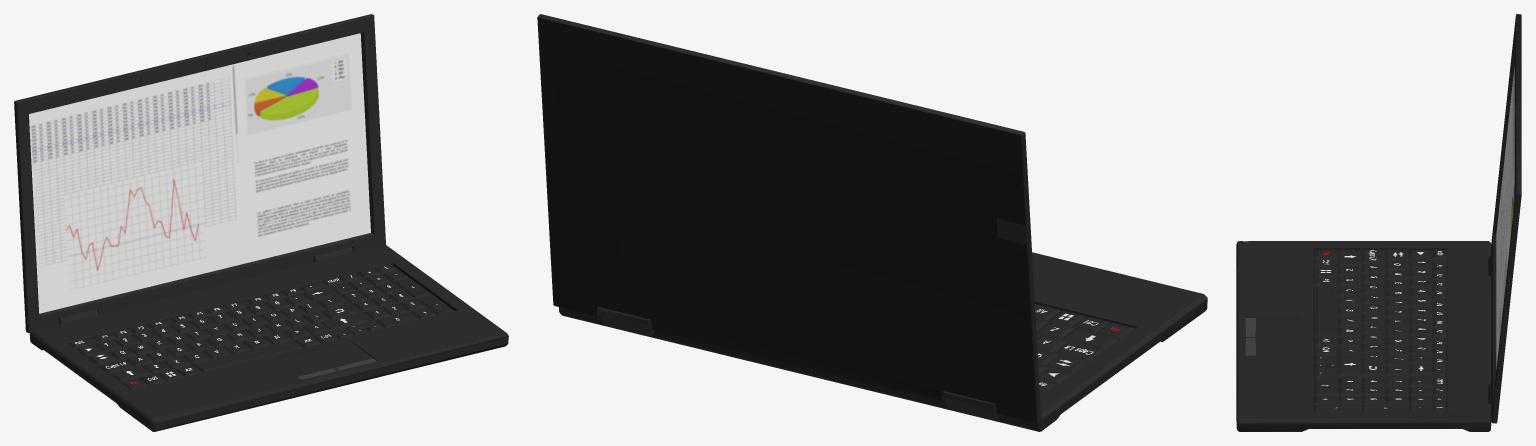
File: Laptop 2.fbx
3 renders of one model, left to right at view 1: azimuth 30°, elevation 25°; view 2: azimuth 150°, elevation 25°; view 3: azimuth 270°, elevation 25°, orthographic. The views are drawn at different scales.
Visible parts, largest first — view 1: Laptop 1; view 2: Laptop 1; view 3: Laptop 1.
Part boxes in pixels (x1,y1,x2,y2): Laptop 1: [14, 14, 508, 431]; Laptop 1: [537, 14, 1207, 431]; Laptop 1: [1236, 14, 1521, 431].
Size of the model in its own units: 46.54 by 28.81 by 31.11.
